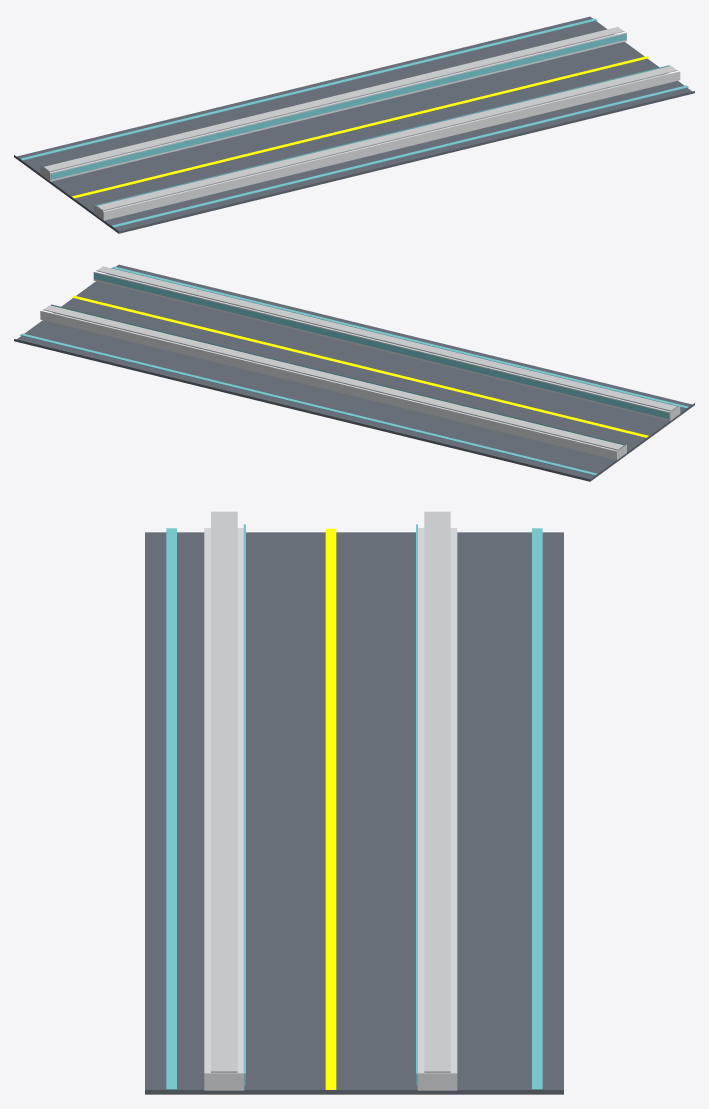
The model's file is ext_maglev_guideway_05.glb.
The picture shows the model from 3 angles, top to bottom: view 1: azimuth 30°, elevation 25°; view 2: azimuth 150°, elevation 25°; view 3: azimuth 270°, elevation 25°; orthographic projection. The views are drawn at different scales.
Parts seen in each view (by area): view 1: Bed, Box_Beams, Stator_Lev, Stator_Guide, Side_Lines, Guide_Glow; view 2: Bed, Box_Beams, Stator_Lev, Stator_Guide, Side_Lines, Guide_Glow; view 3: Bed, Stator_Lev, Box_Beams, Side_Lines, Guide_Glow, Stator_Guide.
Boxes of the visible parts, x1,y1,x2,y2 form: Bed: (14,16,694,233); Box_Beams: (40,32,680,220); Stator_Lev: (43,27,677,210); Stator_Guide: (51,33,669,209); Side_Lines: (19,18,688,227); Guide_Glow: (72,56,648,198); Bed: (14,264,694,481); Box_Beams: (40,272,680,459); Stator_Lev: (43,266,677,450); Stator_Guide: (51,273,669,448); Side_Lines: (20,266,689,475); Guide_Glow: (71,295,649,437); Bed: (145,532,563,1094); Stator_Lev: (211,511,450,1072); Box_Beams: (204,528,457,1090); Side_Lines: (166,528,542,1089); Guide_Glow: (325,528,336,1089); Stator_Guide: (243,524,417,1085).
Bounding box in the file's own units: 9.99 × 0.188 × 3.15.
